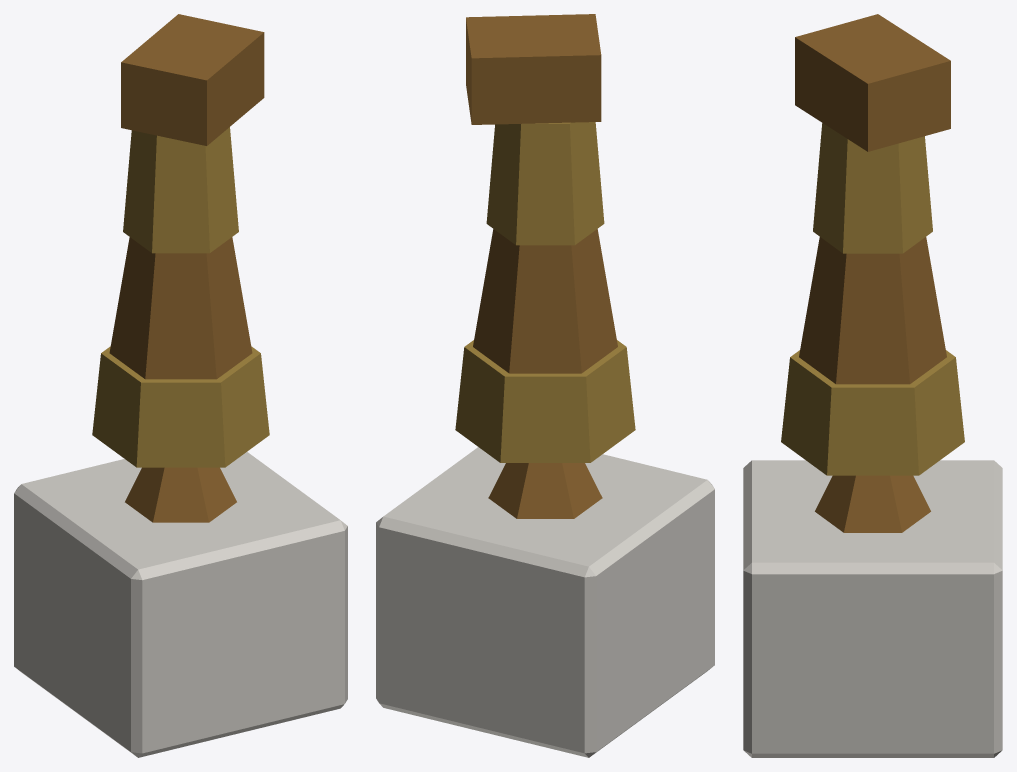
File: sculpture-37.glb
3 views of the same model, side by side, from view 1: azimuth 30°, elevation 25°; view 2: azimuth 150°, elevation 25°; view 3: azimuth 270°, elevation 25° (orthographic). The views are drawn at different scales.
Visible parts, largest first — view 1: sculpture_37; view 2: sculpture_37; view 3: sculpture_37.
Part boxes in pixels (x1,y1,x2,y2): sculpture_37: (14,14,347,757); sculpture_37: (376,14,714,757); sculpture_37: (743,14,1002,757).
Size of the model in its own units: 0.1805 by 0.5094 by 0.1805.
